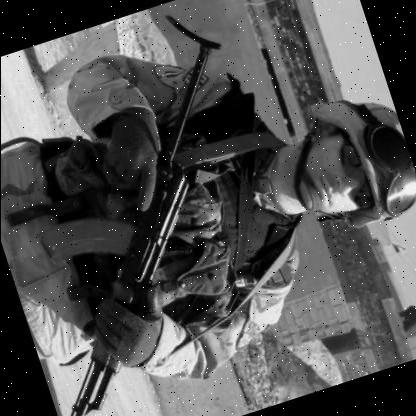rifle: (0, 12, 336, 416)
